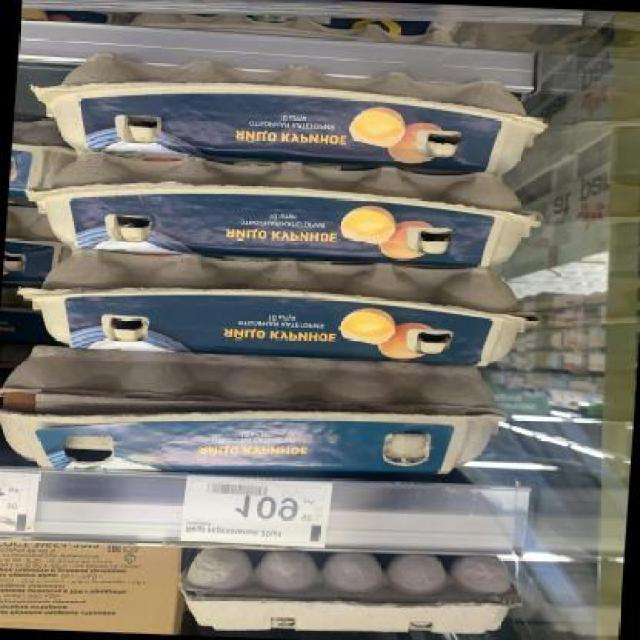Egg: (0, 346, 512, 485), (34, 57, 550, 178), (27, 154, 541, 273), (20, 252, 538, 368), (7, 117, 62, 206)
